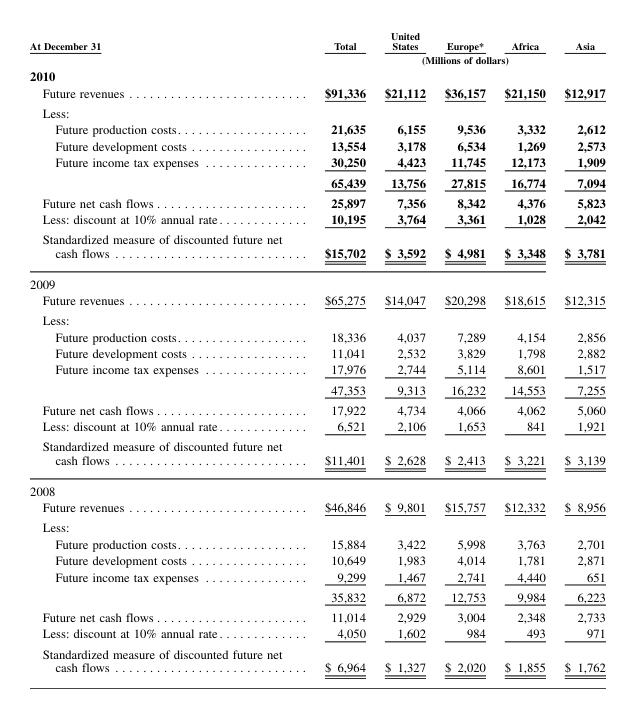table: (29, 29, 604, 674)
table column: (29, 29, 302, 674), (302, 29, 374, 674), (374, 29, 434, 674), (434, 29, 494, 674), (494, 29, 554, 674), (554, 29, 604, 674)
table column header: (29, 29, 604, 66)
table projected row header: (29, 268, 604, 291), (29, 475, 604, 498), (29, 309, 604, 328), (29, 516, 604, 535), (29, 66, 604, 84), (29, 102, 604, 120)
table row: (29, 228, 604, 268), (29, 436, 604, 475), (29, 643, 604, 674), (29, 29, 604, 52), (29, 268, 604, 291), (29, 475, 604, 498), (29, 171, 604, 192), (29, 379, 604, 399), (29, 586, 604, 606), (29, 309, 604, 328), (29, 360, 604, 379), (29, 417, 604, 436), (29, 516, 604, 535), (29, 624, 604, 643), (29, 66, 604, 84), (29, 84, 604, 102), (29, 102, 604, 120), (29, 153, 604, 171), (29, 192, 604, 210), (29, 210, 604, 228), (29, 291, 604, 309), (29, 399, 604, 417), (29, 498, 604, 516), (29, 568, 604, 586), (29, 606, 604, 624), (29, 120, 604, 137), (29, 551, 604, 568), (29, 137, 604, 153), (29, 328, 604, 344), (29, 344, 604, 360), (29, 535, 604, 551), (29, 52, 604, 66)
table spanning cell: (29, 29, 302, 66), (302, 52, 604, 66)
